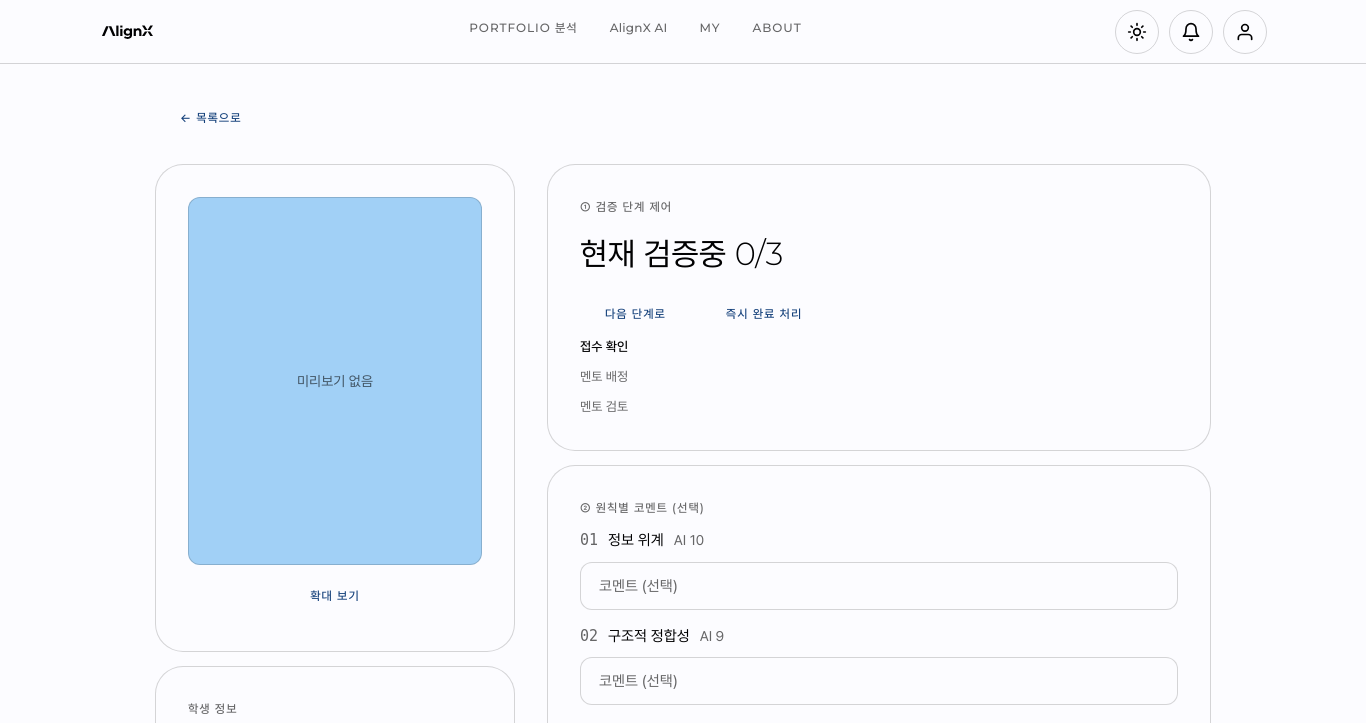
Test case: AdminFeedbackPage — 검증 단계 수동 제어 (10 §3.3) › "다음 단계로"를 누르면 완료 단계 수가 하나씩 늘어난다
The width and height of the screenshot is (1366, 723).
Expected: the button "← 목록으로" is shown, left=155, top=96, right=266, bottom=140
Expected: the text "현재 검증중 0/3" is shown, left=580, top=234, right=783, bottom=273
Click the button "다음 단계로": (635,314) left=580, top=292, right=691, bottom=336
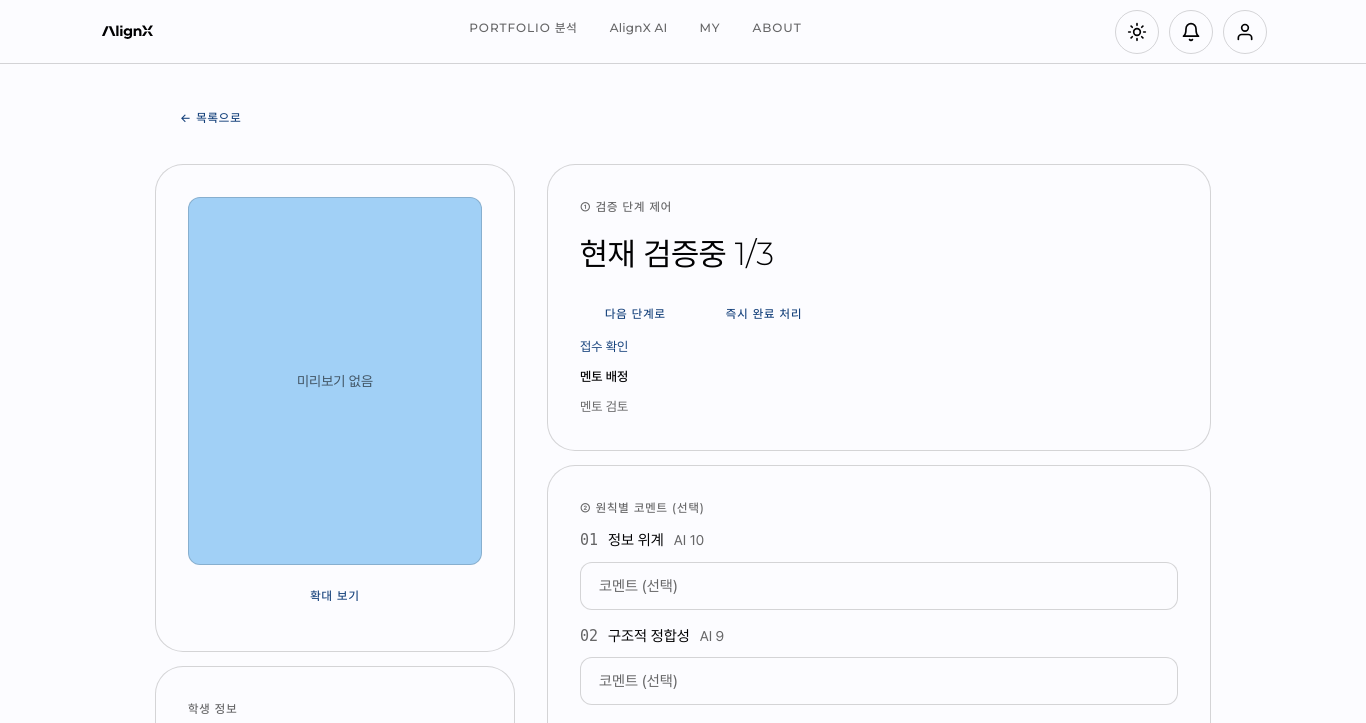
Result: the text "현재 검증중 1/3" is shown at left=580, top=234, right=774, bottom=273
Click the button "다음 단계로": (635,314) left=580, top=292, right=691, bottom=336
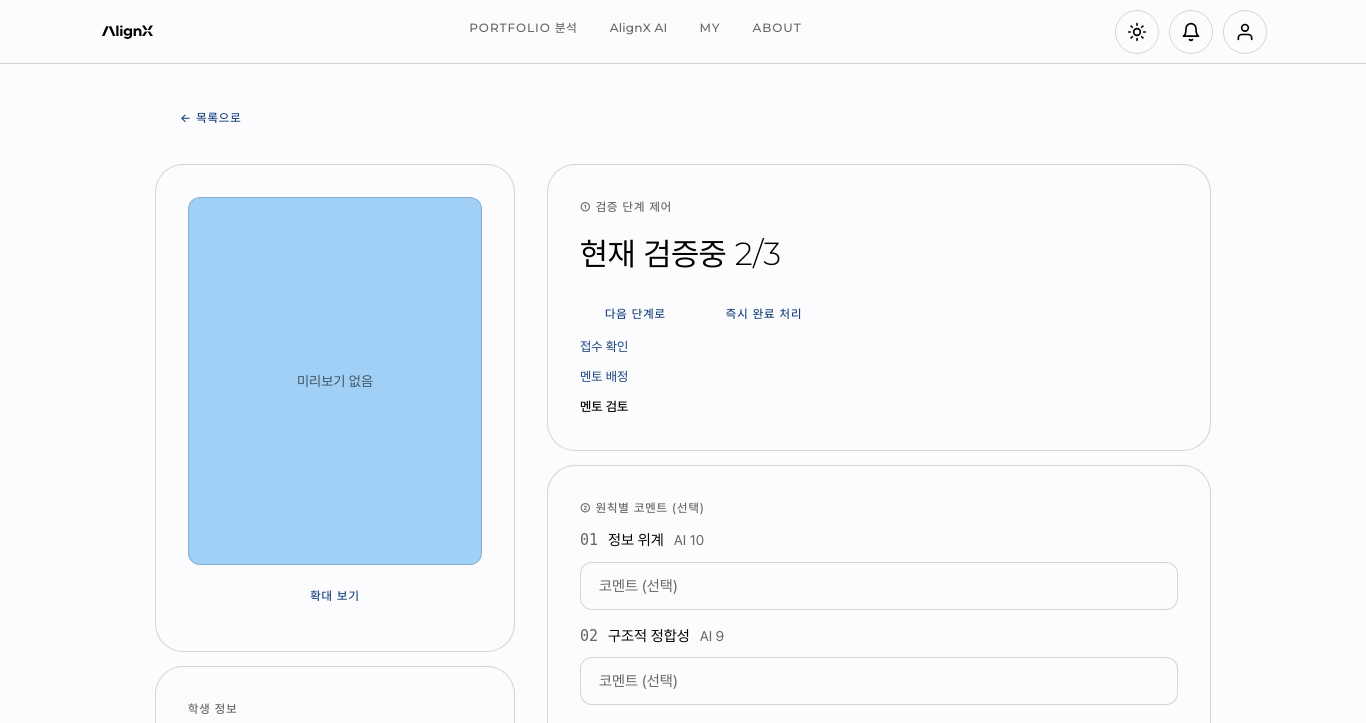
Result: the text "현재 검증중 2/3" is shown at left=580, top=234, right=781, bottom=273
